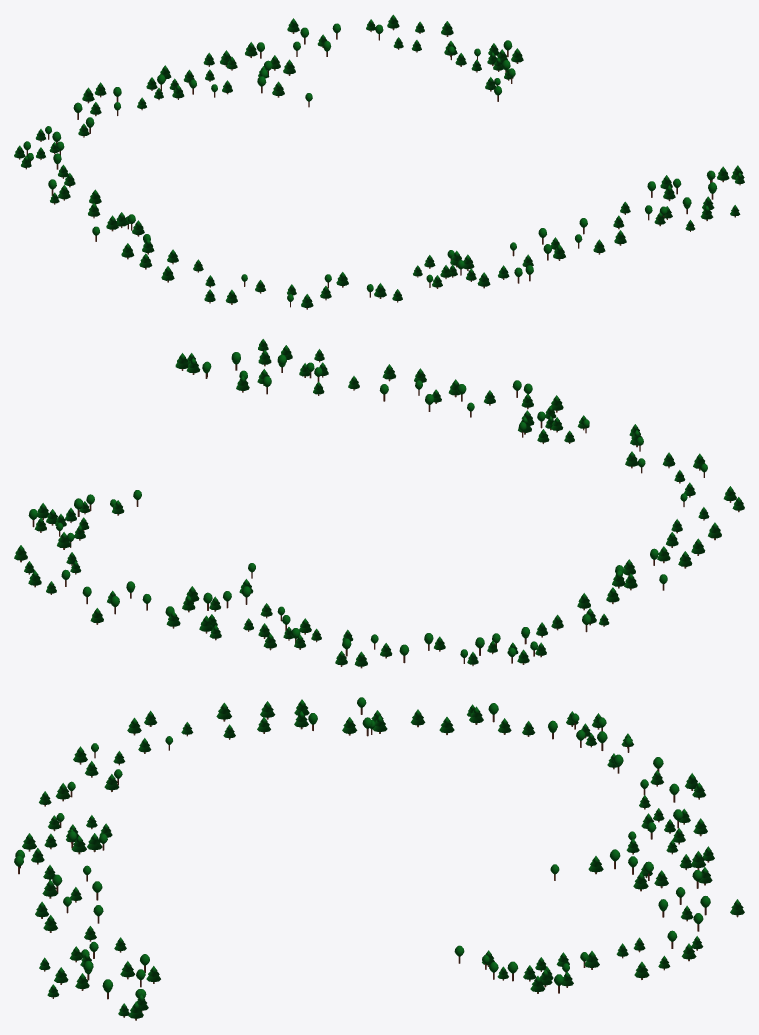
File: trees.glb
The picture shows the model from 3 angles, top to bottom: view 1: azimuth 30°, elevation 25°; view 2: azimuth 150°, elevation 25°; view 3: azimuth 270°, elevation 25°; orthographic projection. The views are drawn at different scales.
Size of the model in its own units: 7.08 by 0.217 by 7.05.
